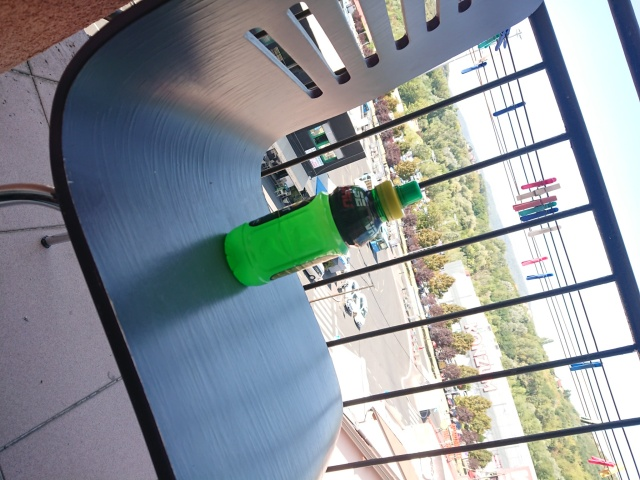Vindi Iso Sport Lemon-Grapefruit 500mL: (220, 178, 424, 289)
